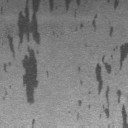red iron: (7, 0, 82, 104), (94, 42, 128, 128), (92, 14, 98, 32), (3, 62, 12, 72), (114, 0, 120, 10), (110, 26, 114, 37), (78, 100, 82, 106), (80, 23, 84, 28), (32, 120, 34, 128)
